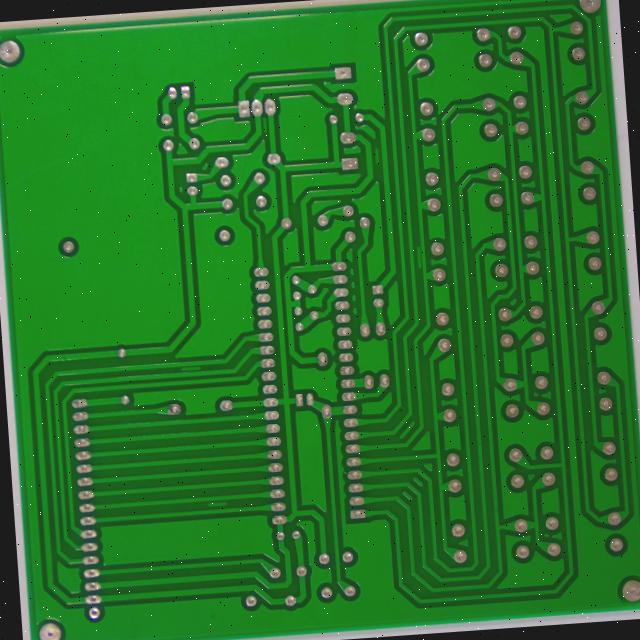spurious_copper: (175, 360, 204, 376), (201, 496, 229, 511), (411, 241, 424, 271), (253, 111, 271, 132), (368, 144, 384, 167)
